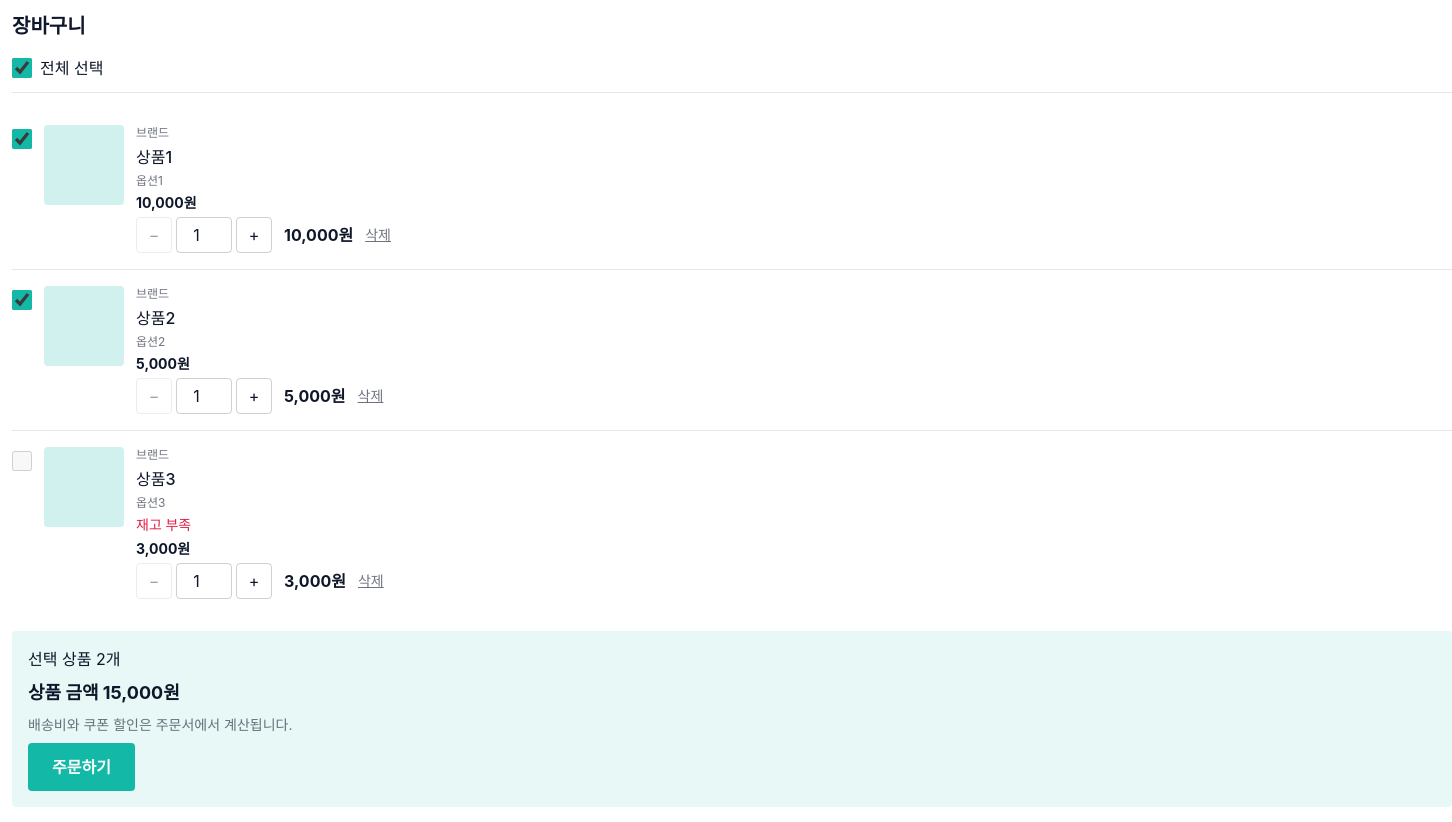
Test case: 선택을 풀면 합계가 줄어든다
Click the checkbox named "상품2 선택".
click(22, 300)  # box 12,290 -> 32,310
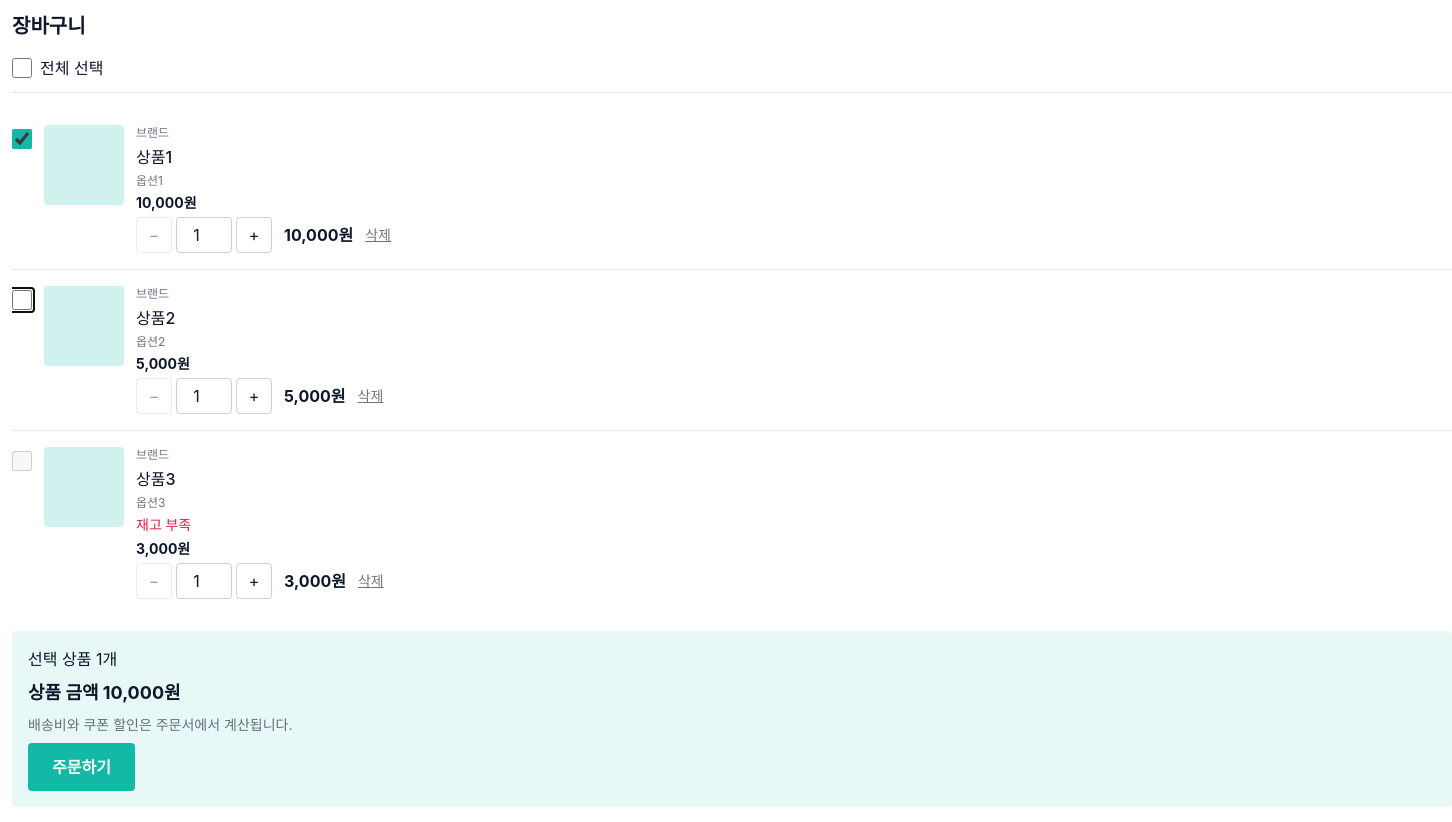
Expected: the text "선택 상품 1개" is shown, 28,649 -> 117,669
Expected: the text "상품 금액 10,000원" is shown, 28,682 -> 181,703
Expected: the checkbox labelled "전체 선택" is not checked
Click the checkbox labelled "전체 선택".
click(22, 68)  # box 12,58 -> 32,78
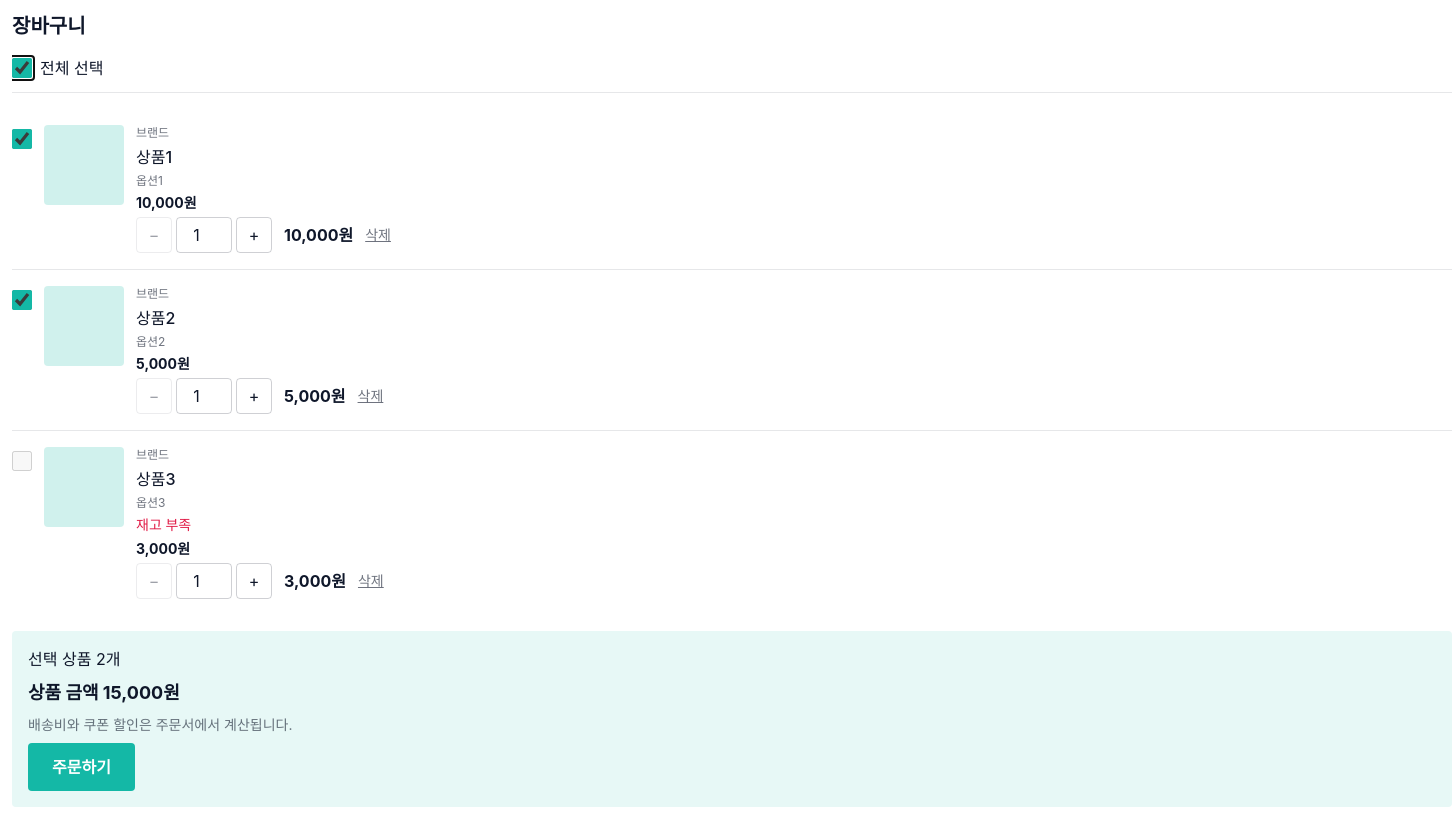
Expected: the text "상품 금액 15,000원" is shown, 28,682 -> 180,703
